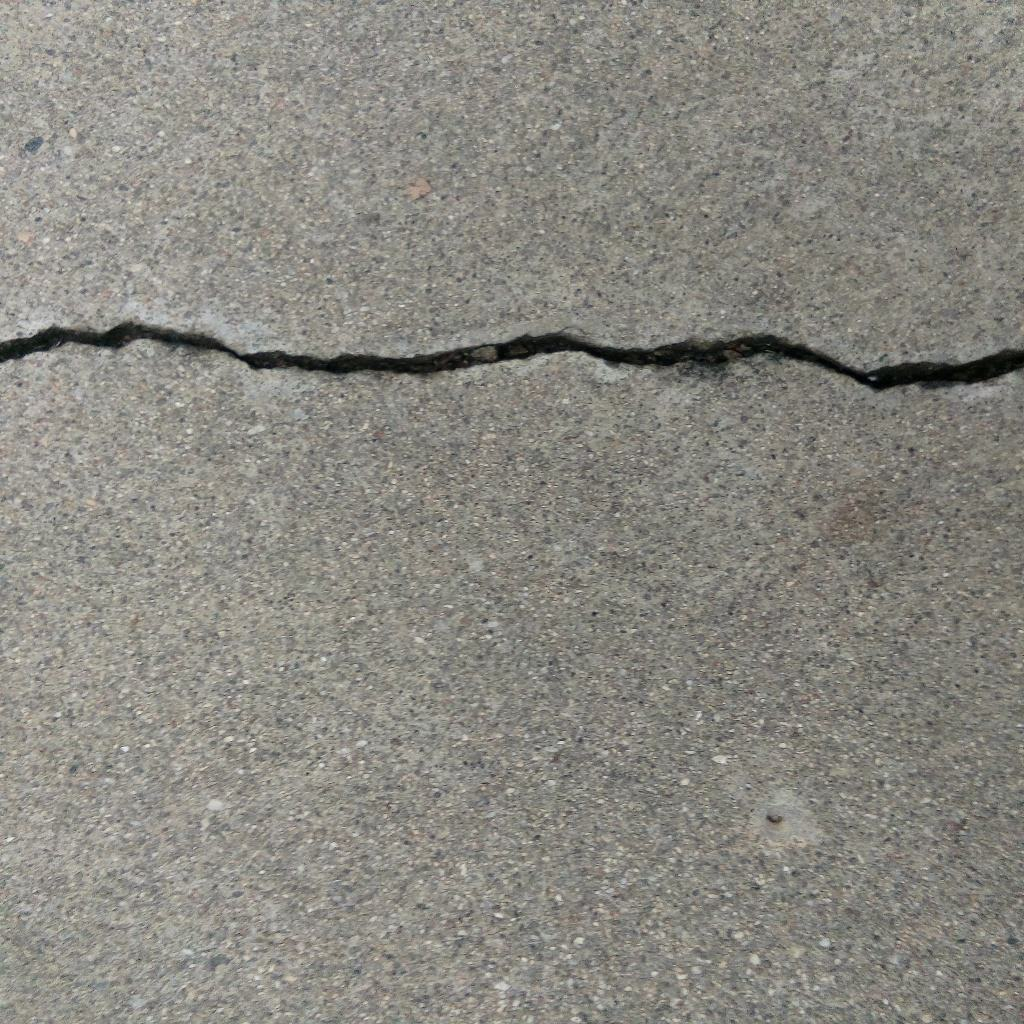Crack: (1, 318, 1024, 394)
